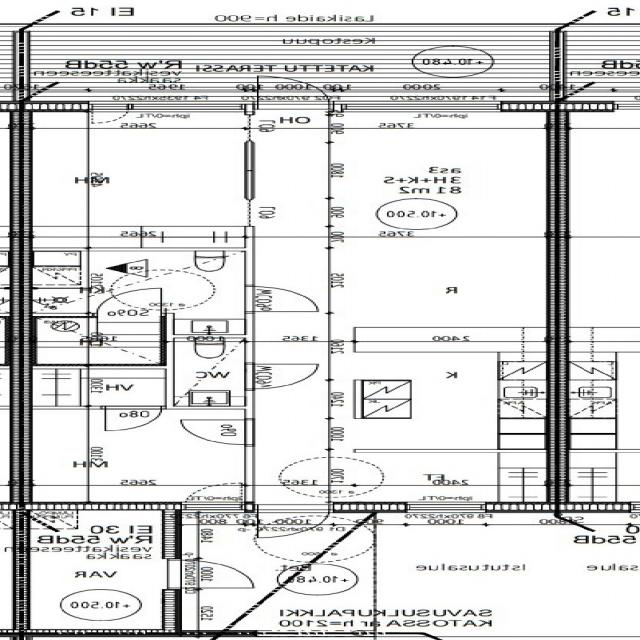door: (258, 73, 330, 112), (258, 502, 328, 540), (162, 560, 252, 588), (243, 286, 320, 312), (180, 420, 253, 446), (98, 289, 160, 319), (244, 365, 318, 389), (104, 406, 160, 431)
